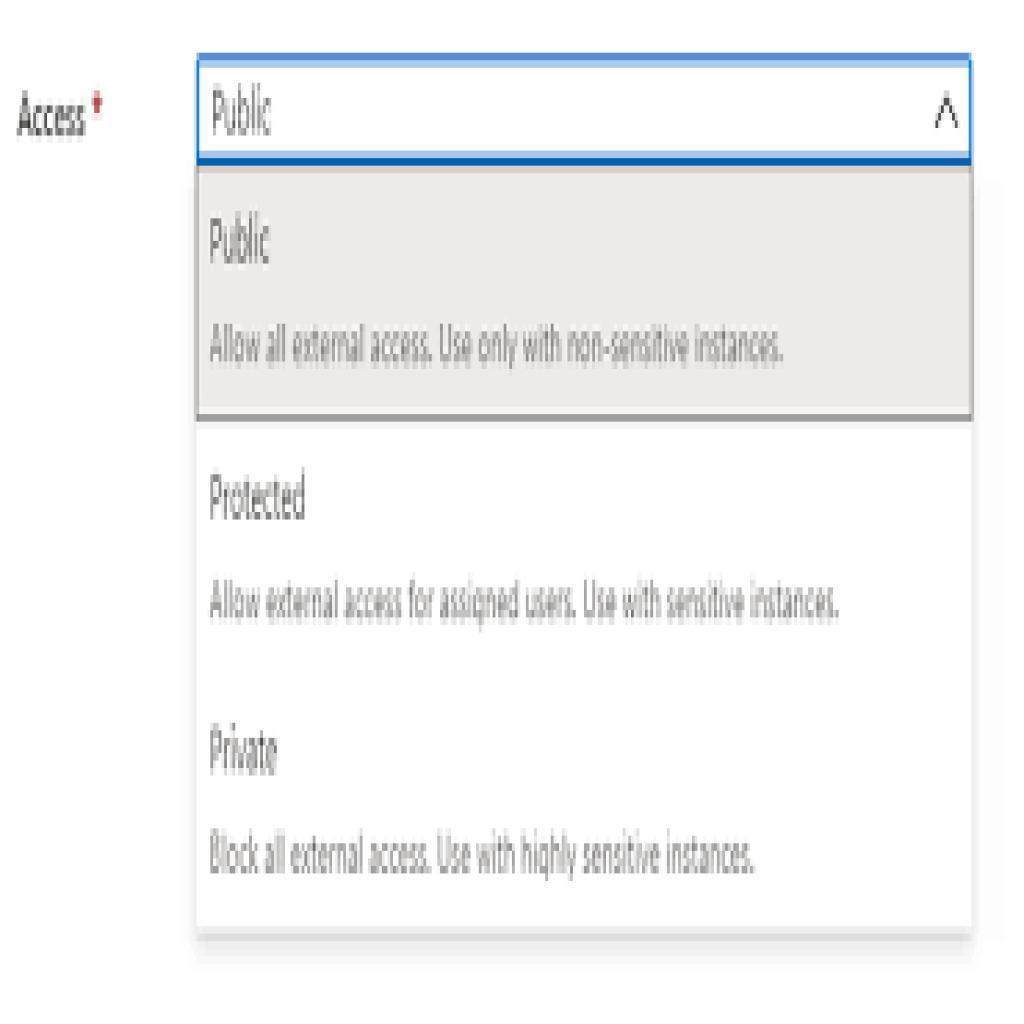button: (194, 168, 975, 422)
dropdown: (198, 54, 974, 166)
label: (207, 467, 319, 531), (201, 715, 298, 787), (7, 84, 109, 143)
